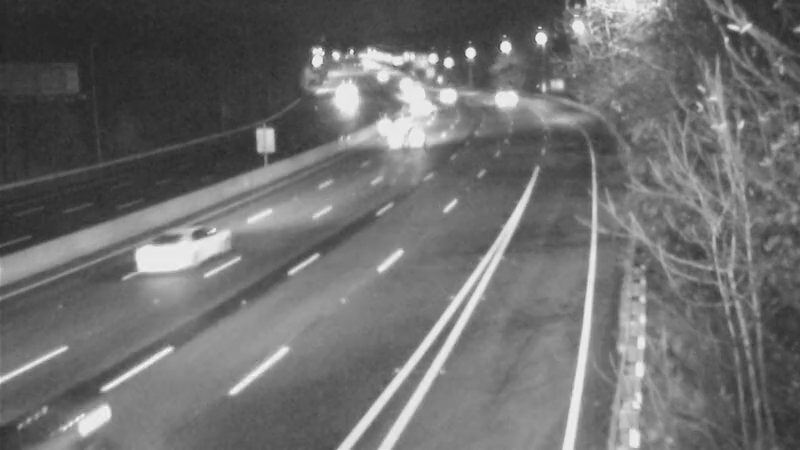vehicle: (129, 215, 209, 295), (375, 60, 425, 110), (477, 73, 527, 123), (418, 68, 468, 118), (393, 72, 443, 122), (393, 84, 443, 134), (365, 95, 415, 145), (377, 116, 427, 166), (316, 70, 366, 120)
